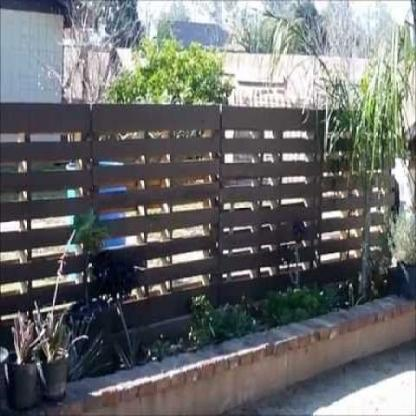BoxFace: (219, 107, 323, 287)
